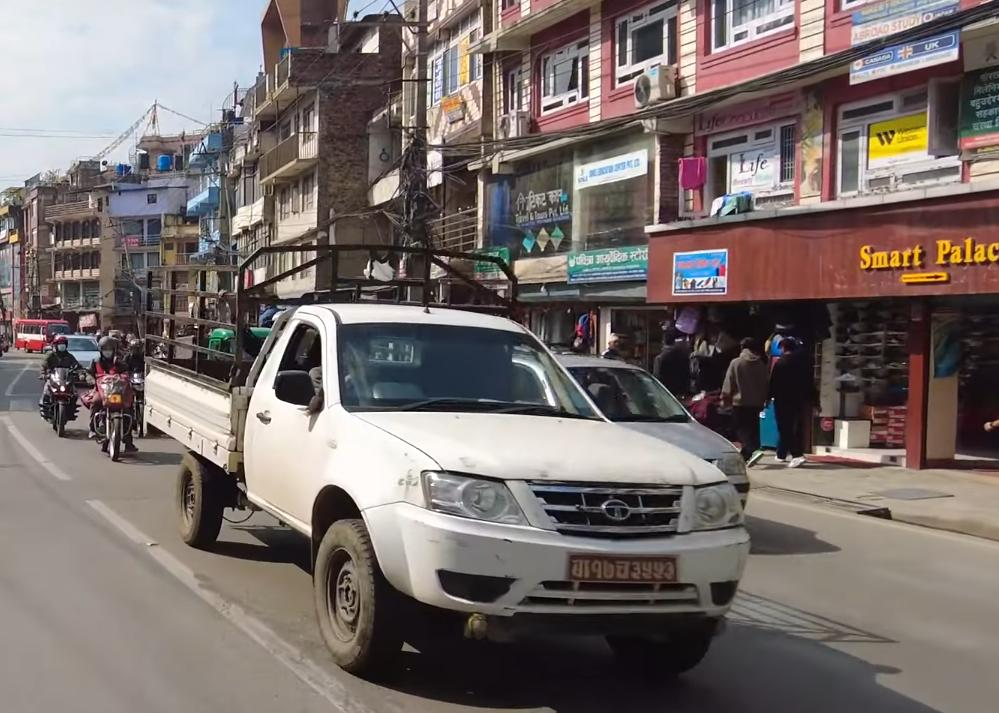bike: (80, 337, 146, 470), (27, 329, 84, 443)
bus: (6, 312, 80, 356)
transport_vehicle: (126, 237, 753, 690)
